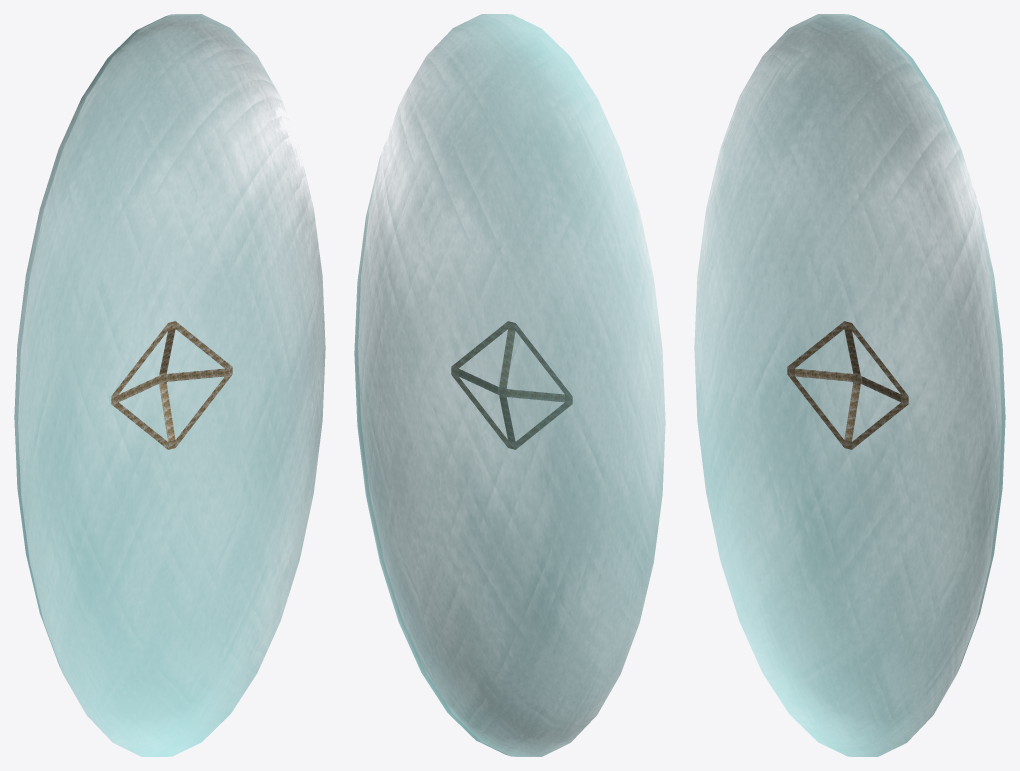
File: Shield.fbx
3 views of the same model, side by side, from view 1: azimuth 30°, elevation 25°; view 2: azimuth 150°, elevation 25°; view 3: azimuth 330°, elevation 25° (orthographic).
Parts seen in each view (by area): view 1: Shield, Handle; view 2: Shield, Handle; view 3: Shield, Handle.
Part boxes in pixels (<box>): Shield: <box>14,14,325,756</box>; Handle: <box>111,321,232,449</box>; Shield: <box>354,14,665,756</box>; Handle: <box>451,321,572,449</box>; Shield: <box>694,14,1005,756</box>; Handle: <box>787,321,908,449</box>.
Size of the model in its own units: 101 by 234 by 19.5.
